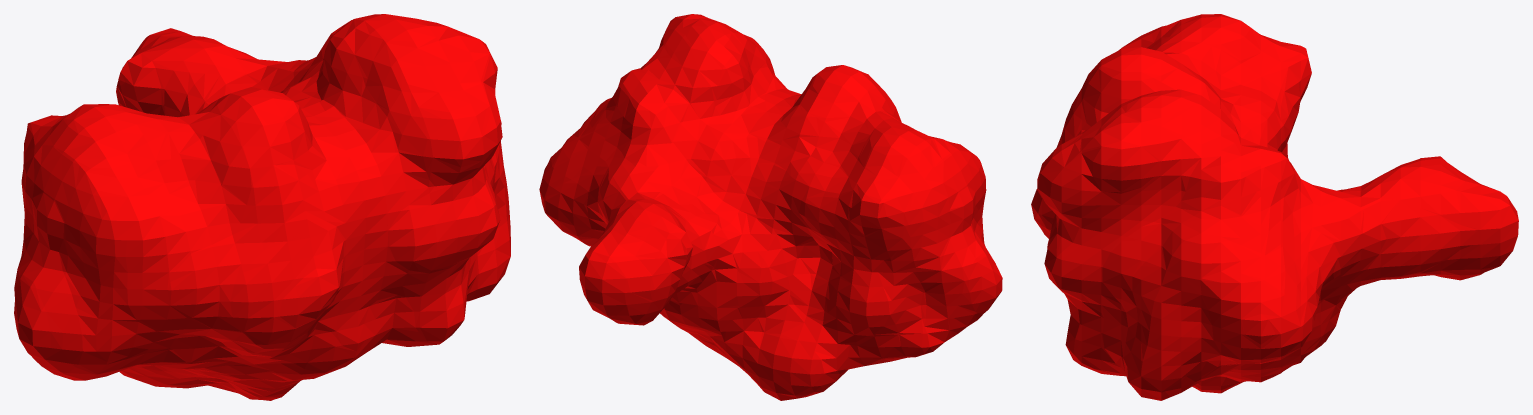
Rendered from oppF_coarse.dae.
3 renders of one model, left to right at view 1: azimuth 30°, elevation 25°; view 2: azimuth 150°, elevation 25°; view 3: azimuth 270°, elevation 25°, orthographic. The views are drawn at different scales.
Parts seen in each view (by area): view 1: oppF; view 2: oppF; view 3: oppF.
Boxes of the visible parts, x1,y1,x2,y2 form: oppF: (14,14,510,400); oppF: (539,14,1002,400); oppF: (1031,14,1518,400).
Size of the model in its own units: 73.5 by 50.86 by 65.24.
